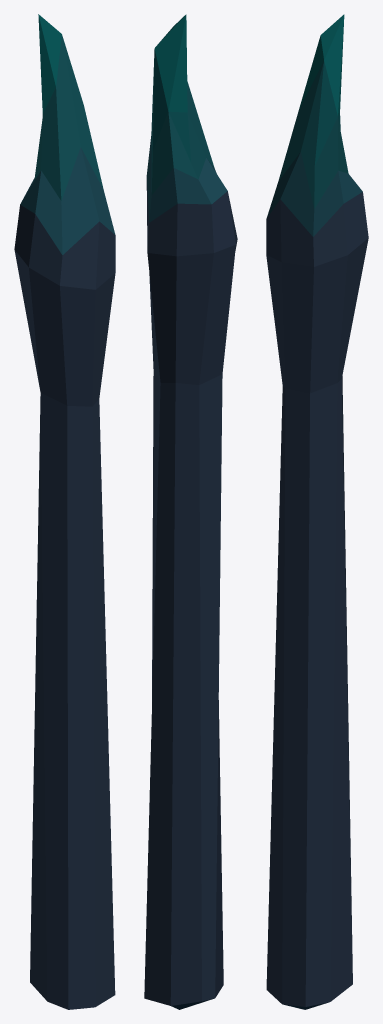
The model's file is Rock_3.fbx.
3 views of the same model, side by side, from view 1: azimuth 90°, elevation 25°; view 2: azimuth 210°, elevation 25°; view 3: azimuth 270°, elevation 25° (orthographic). The views are drawn at different scales.
Parts seen in each view (by area): view 1: Rock_3; view 2: Rock_3; view 3: Rock_3.
Part boxes in pixels (<box>): Rock_3: <box>14,14,115,1009</box>; Rock_3: <box>144,14,237,1009</box>; Rock_3: <box>266,14,368,1009</box>.
Size of the model in its own units: 8.6 by 97.01 by 8.99.
